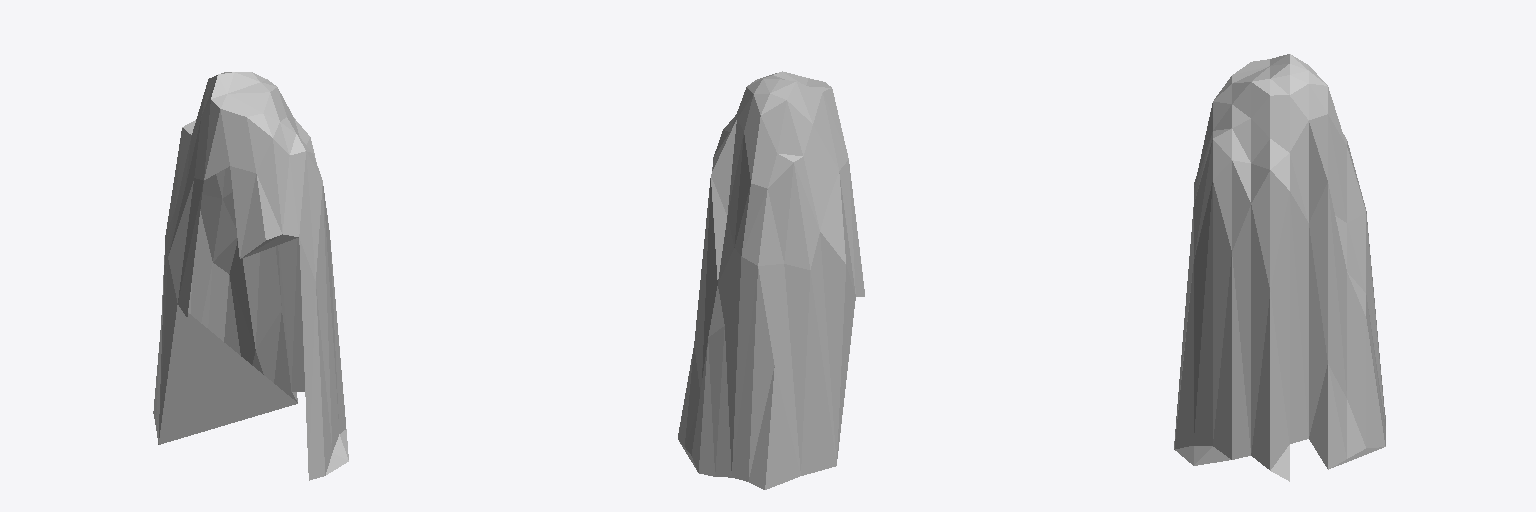
File: tree_3.obj
3 renders of one model, left to right at view 1: azimuth 30°, elevation 25°; view 2: azimuth 150°, elevation 25°; view 3: azimuth 270°, elevation 25°, orthographic.
Parts seen in each view (by area): view 1: tree_13; view 2: tree_13; view 3: tree_13.
Part boxes in pixels (x1,y1,x2,y2): tree_13: (153, 72, 348, 480); tree_13: (678, 71, 864, 489); tree_13: (1174, 54, 1385, 481).
Size of the model in its own units: 10 by 21.39 by 11.